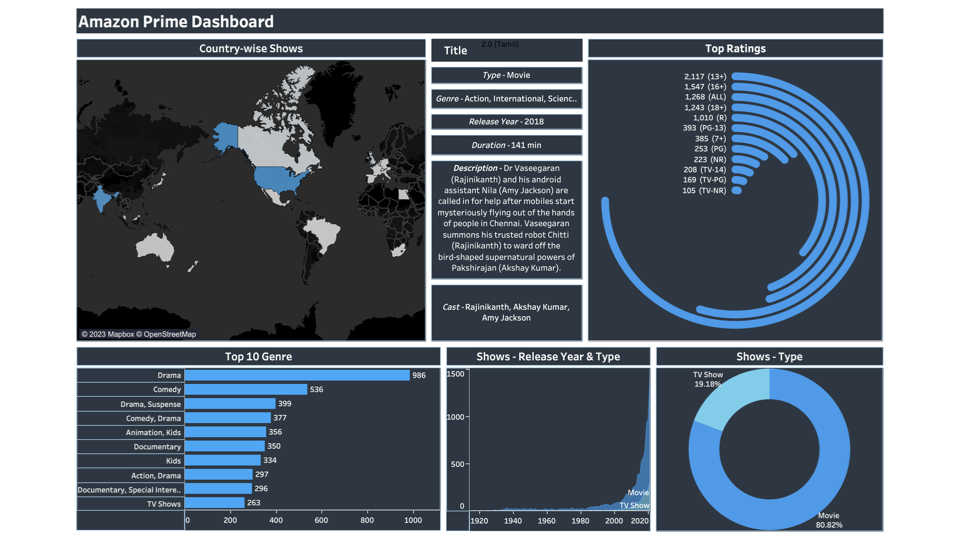

Layout of this report page (visuals, bound fields, positions):
{"tool":"tableau","page":{"name":"Amazon Prime Dashboard","canvas":[1220,800],"ordinal":0},"visuals":[{"type":"text","box":[8,8,1204,45]},{"type":"worksheet","title":"Country-wise Shows","mark":"Multipolygon","box":[8,53,526,457.2]},{"type":"filter","title":"Description","param":"[federated.12rvzkm1ldc0te1d101vy1tenp4b].[none:title:nk]","box":[534,53,232,41.9]},{"type":"worksheet","title":"Top Ratings","mark":"Line","box":[766,53,446,457.2]},{"type":"worksheet","title":"Type","mark":"Automatic","box":[534,94.9,232,33.5]},{"type":"worksheet","title":"Genre","mark":"Automatic","box":[534,128.4,232,36.8]},{"type":"worksheet","title":"Release Year","mark":"Automatic","box":[534,165.2,232,31.1]},{"type":"worksheet","title":"Duration","mark":"Automatic","box":[534,196.3,232,37.7]},{"type":"worksheet","title":"Description","mark":"Automatic","box":[534,234,232,184.1]},{"type":"worksheet","title":"Cast","mark":"Automatic","box":[534,418.1,232,92.1]},{"type":"worksheet","title":"Top 10 Genre","mark":"Automatic","rows":["listed_in"],"cols":["show_id"],"box":[8,510.2,548,281.8]},{"type":"worksheet","title":"Shows - Release Year & Type","mark":"Area","rows":["show_id"],"cols":["release_year"],"box":[556,510.2,311,281.8]},{"type":"worksheet","title":"Shows - Type","mark":"Pie","rows":["Calculation_4282571432301735950","Calculation_4282571432301735950"],"box":[867,510.2,345,281.8]}]}

Visuals, with their boxes in screenshot pixels (x1, y1, x2, y2):
text: BBox(78, 5, 879, 35)
"Country-wise Shows" worksheet (Multipolygon marks): BBox(78, 35, 428, 340)
"Description" filter: BBox(428, 35, 582, 63)
"Top Ratings" worksheet (Line marks): BBox(582, 35, 879, 340)
"Type" worksheet: BBox(428, 63, 582, 85)
"Genre" worksheet: BBox(428, 85, 582, 110)
"Release Year" worksheet: BBox(428, 110, 582, 131)
"Duration" worksheet: BBox(428, 131, 582, 156)
"Description" worksheet: BBox(428, 156, 582, 278)
"Cast" worksheet: BBox(428, 278, 582, 340)
"Top 10 Genre" worksheet: BBox(78, 340, 443, 527)
"Shows - Release Year & Type" worksheet (Area marks): BBox(443, 340, 650, 527)
"Shows - Type" worksheet (Pie marks): BBox(650, 340, 879, 527)
